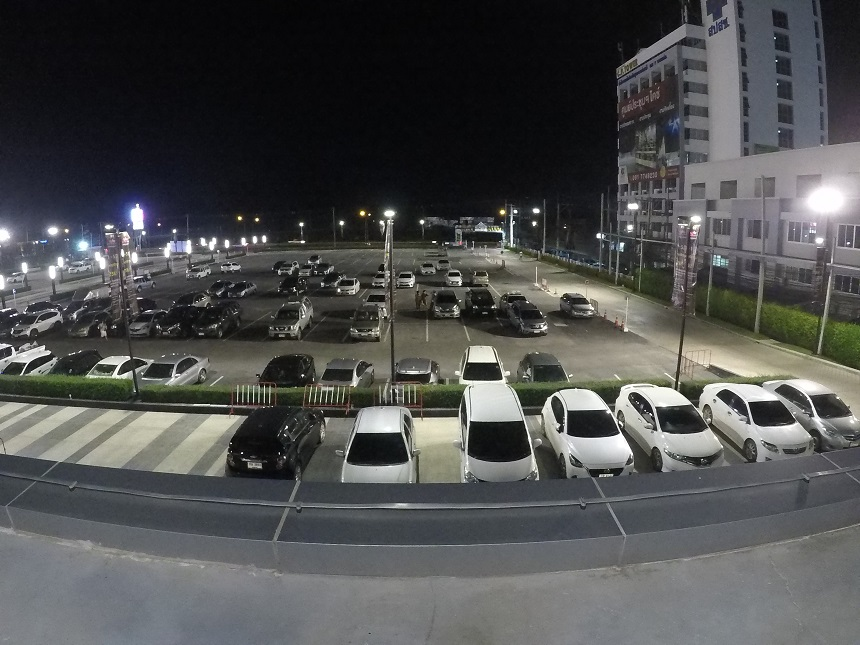busy: (455, 427, 543, 477), (647, 421, 728, 468), (341, 433, 419, 481), (552, 430, 636, 472), (230, 429, 310, 472), (743, 415, 809, 453), (817, 412, 860, 447), (150, 359, 203, 384), (457, 353, 506, 378), (322, 359, 370, 380), (267, 359, 310, 382), (509, 314, 552, 337), (399, 357, 441, 380), (101, 355, 143, 376), (520, 359, 561, 380), (268, 316, 302, 338), (351, 319, 384, 341), (60, 354, 98, 371), (154, 316, 185, 335), (10, 358, 52, 372), (67, 319, 95, 340), (193, 318, 223, 335), (14, 319, 44, 334), (126, 318, 150, 334), (99, 318, 121, 334), (1, 341, 19, 355)
